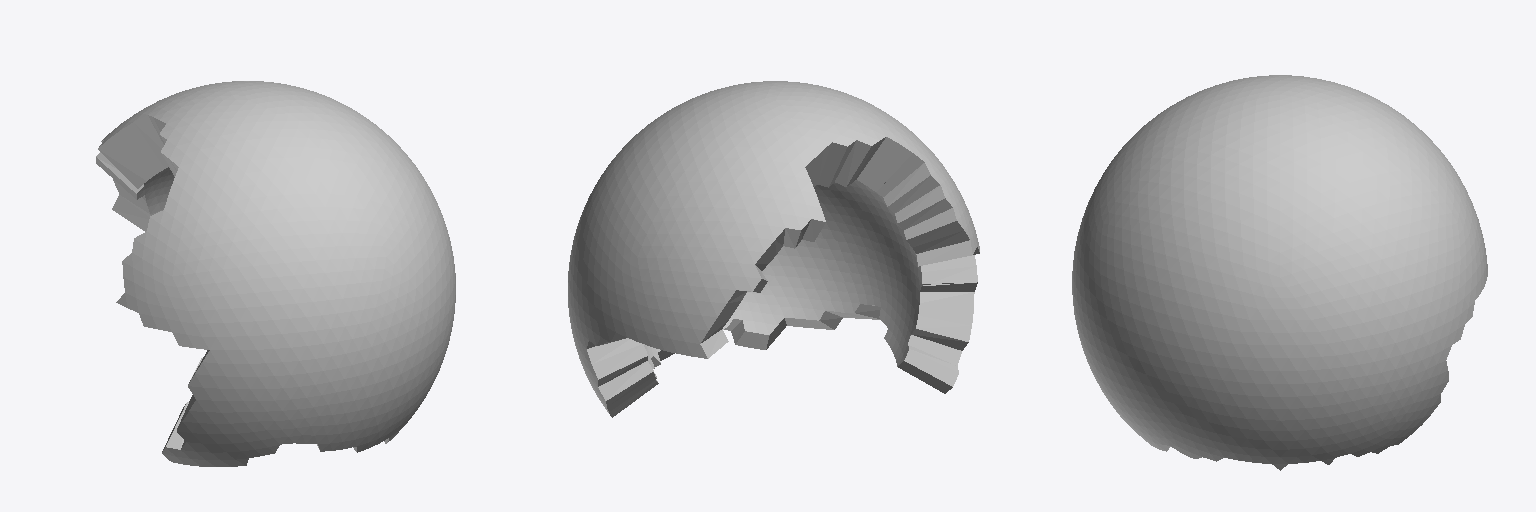
Rendered from clouds_7.obj.
The picture shows the model from 3 angles: view 1: azimuth 30°, elevation 25°; view 2: azimuth 150°, elevation 25°; view 3: azimuth 270°, elevation 25°; orthographic projection.
Visible parts, largest first — view 1: Icosphere.032; view 2: Icosphere.032; view 3: Icosphere.032.
Part boxes in pixels (x1,y1,x2,y2): Icosphere.032: (96, 81, 455, 466); Icosphere.032: (568, 81, 979, 417); Icosphere.032: (1072, 75, 1487, 470).
Bounding box in the file's own units: 20.7 × 18.09 × 21.63.